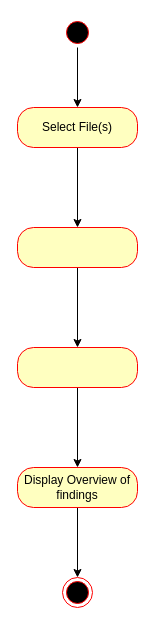
The diagram is 155 pixels wide and 625 high, and some of its shapes have lost their labels. The box of each missing label's shape, as (x1, y1, x2, y2) in pixels:
(Optional) Enter User Information: (16, 226, 138, 268)
Choose Fitting match for each song: (16, 346, 138, 388)
